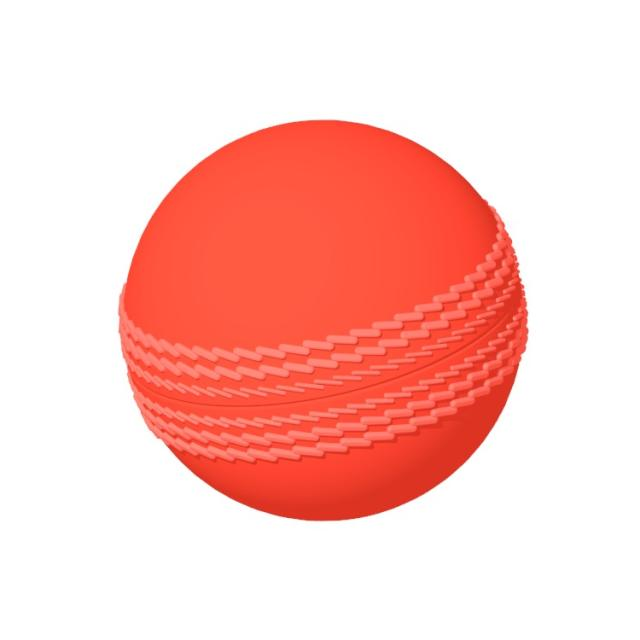ball: (116, 116, 529, 522)
